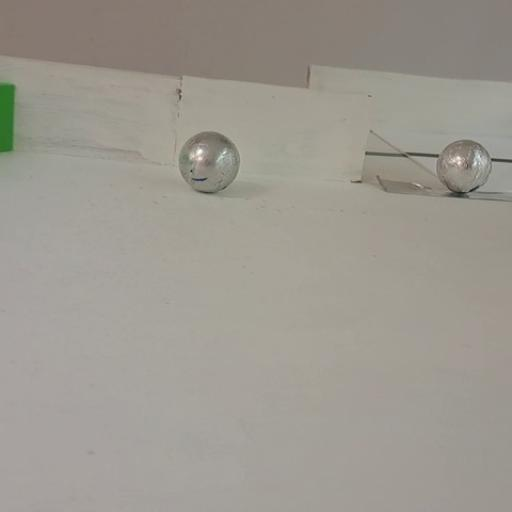alive: (178, 130, 241, 194), (434, 138, 494, 196)
